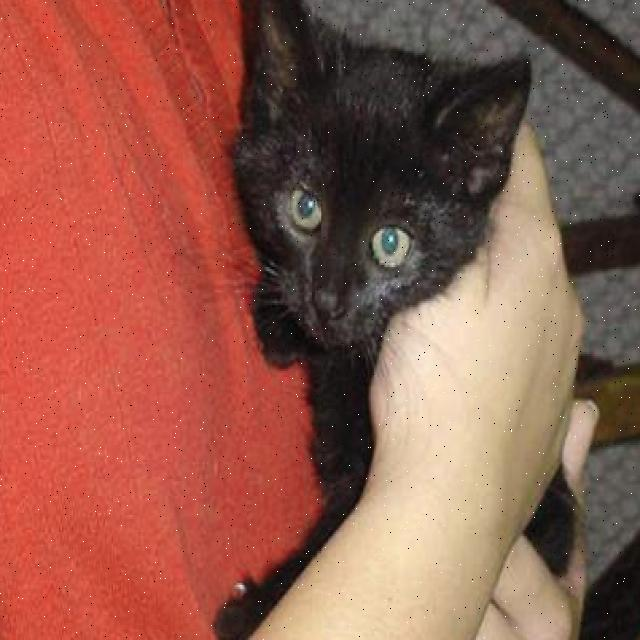Cat: (243, 0, 508, 377)
